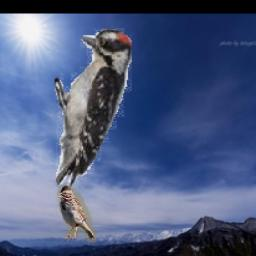Sparrow: (56, 182, 96, 243)
Woodpecker: (55, 28, 132, 196)
